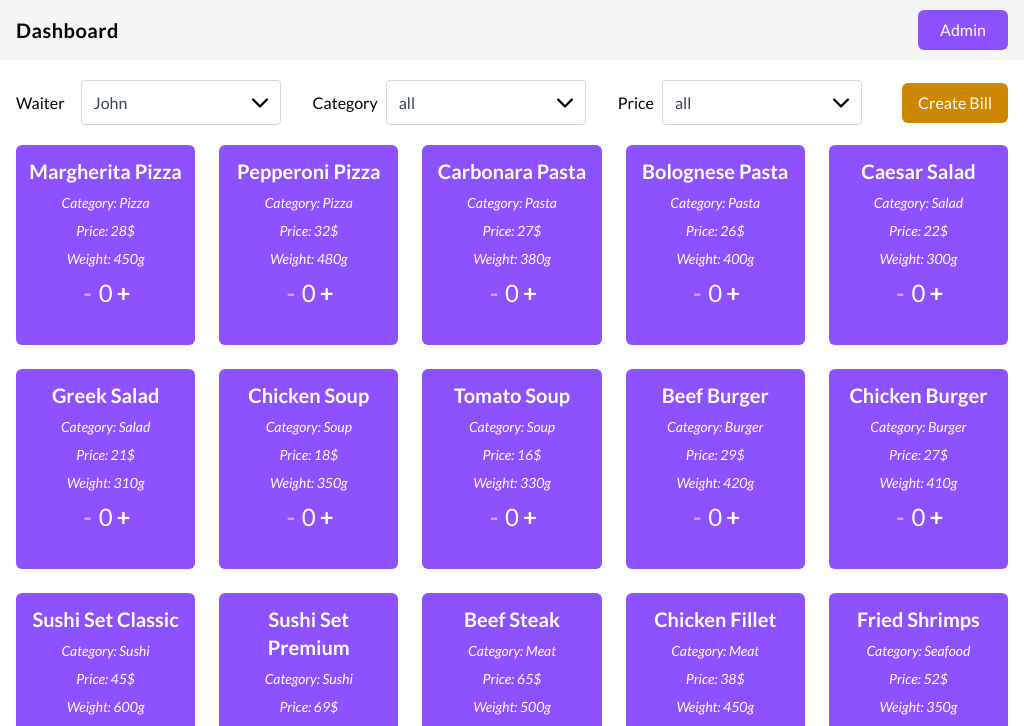
Test: Test receipt page › Increments and decrements dish quantity
Expected: the text "0" below "28" is shown, [99,277,113,309]
Click the button "+" below "28" at (124, 293), box [117,277,131,309]
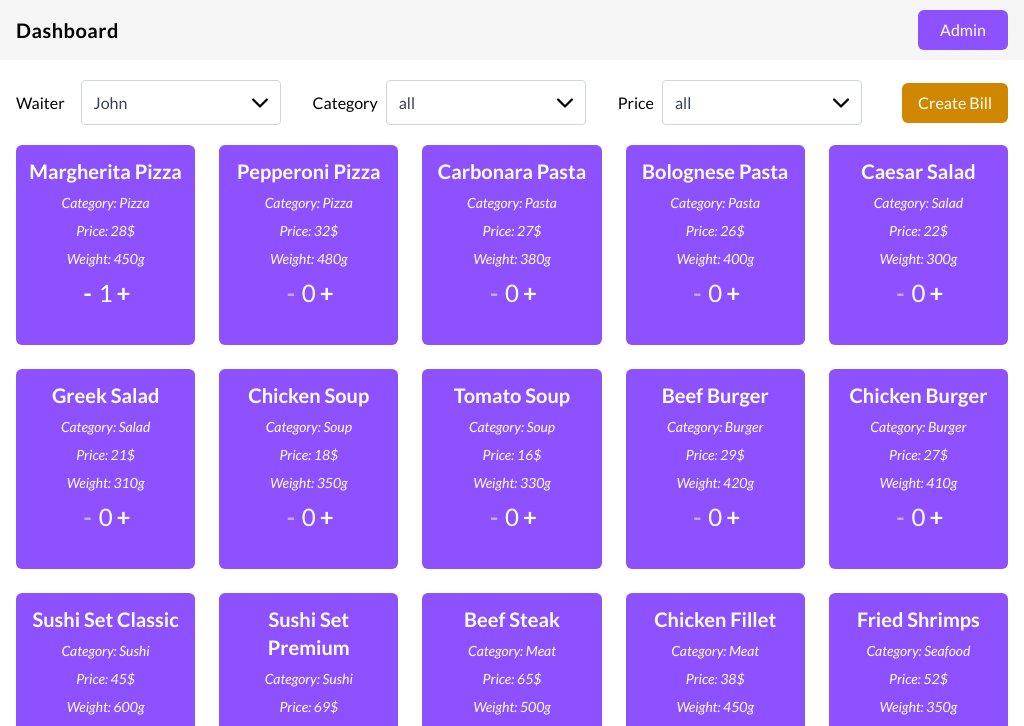
Now the text "1" is shown, box [99,277,112,309]
Click the button "+" below "28" at (124, 293), box [117,277,131,309]
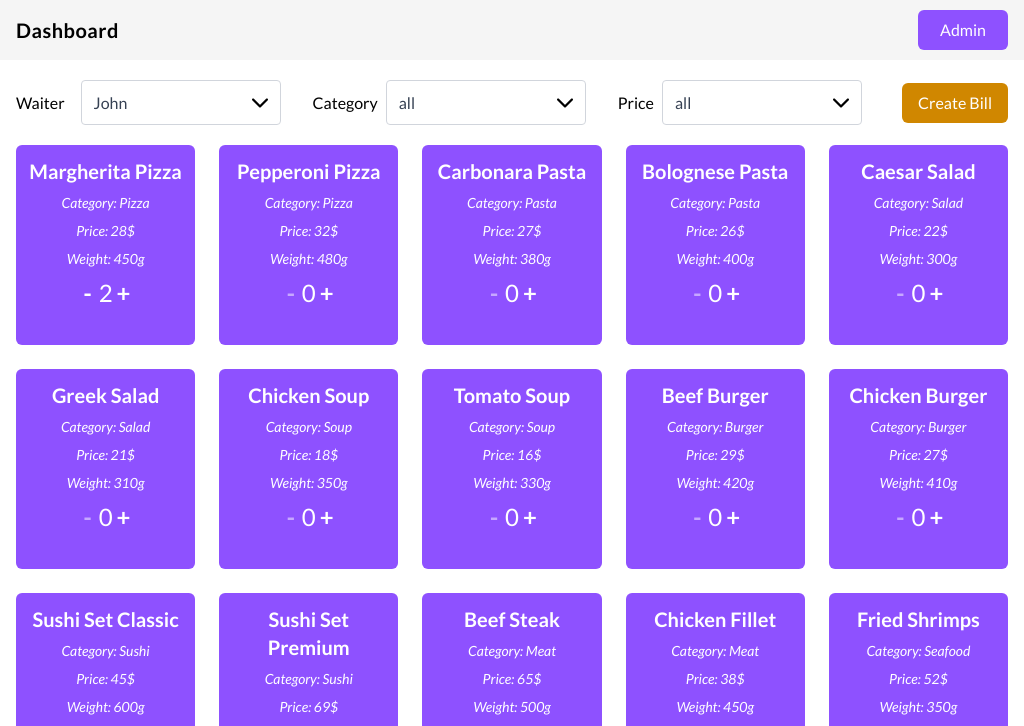
Now the text "2" is shown, box [99,277,112,309]
Click the button "-" below "28" at (88, 293), box [81,277,95,309]
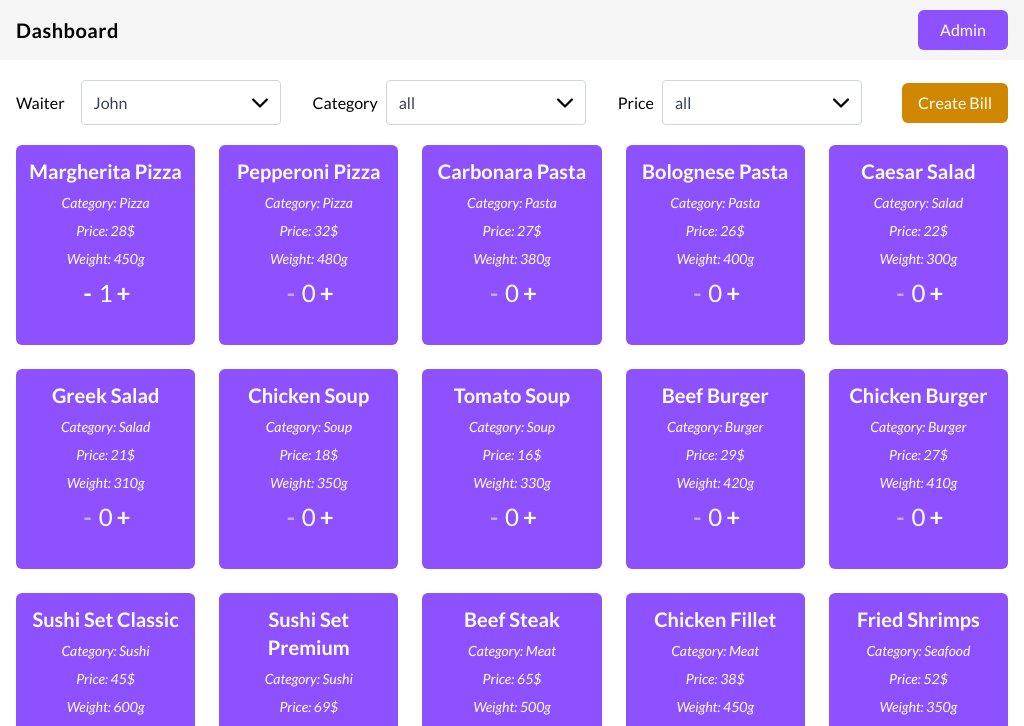
Now the text "1" is shown, box [99,277,112,309]
Click the button "-" below "28" at (88, 293), box [81,277,95,309]
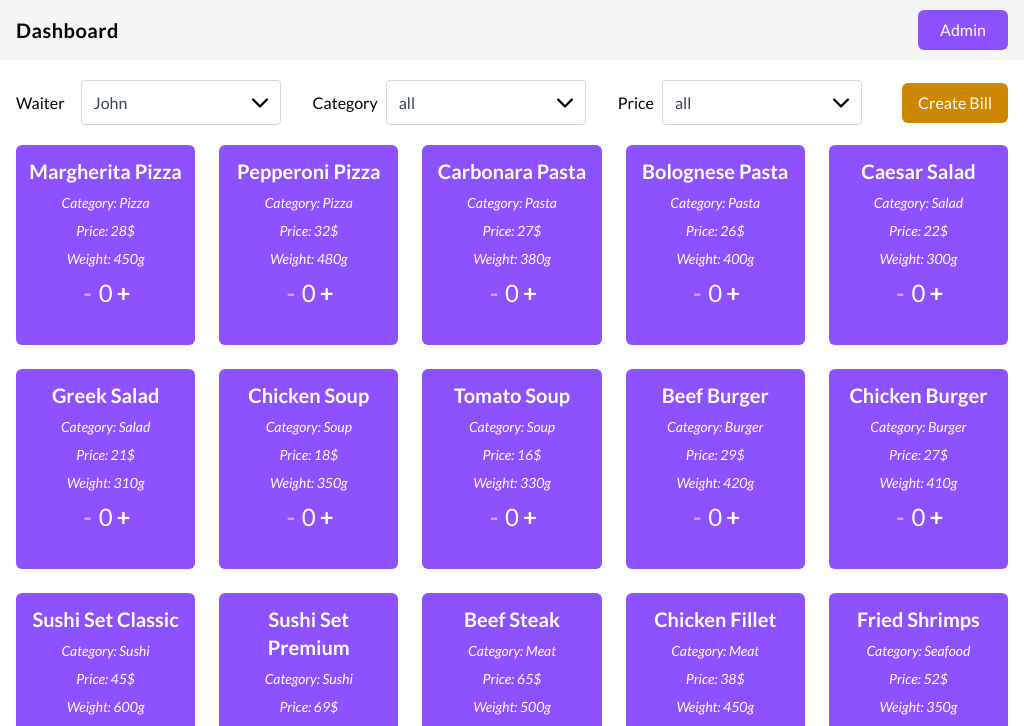
Now the text "0" below "28" is shown, box [99,277,113,309]
